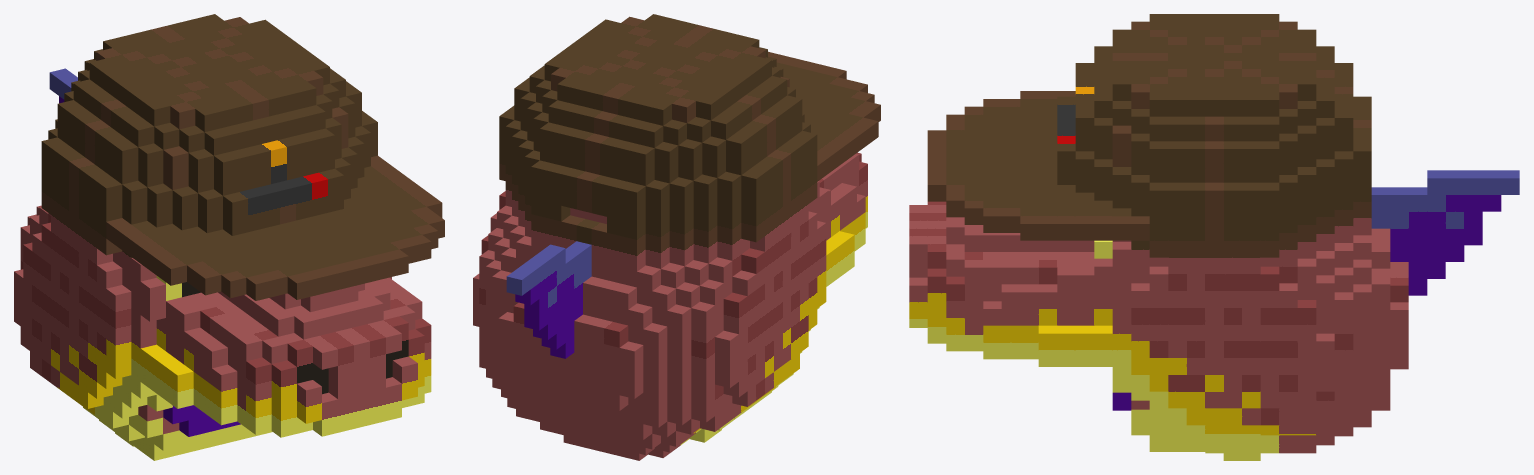
File: wsb hat.gltf
3 renders of one model, left to right at view 1: azimuth 30°, elevation 25°; view 2: azimuth 150°, elevation 25°; view 3: azimuth 270°, elevation 25°, orthographic. The views are drawn at different scales.
Parts seen in each view (by area): view 1: 07_Zilla_Head_WSB_Hat-Mesh; view 2: 07_Zilla_Head_WSB_Hat-Mesh; view 3: 07_Zilla_Head_WSB_Hat-Mesh.
Part boxes in pixels (bbox=[...]): 07_Zilla_Head_WSB_Hat-Mesh: bbox=[14, 14, 444, 460]; 07_Zilla_Head_WSB_Hat-Mesh: bbox=[473, 14, 880, 460]; 07_Zilla_Head_WSB_Hat-Mesh: bbox=[909, 14, 1519, 460].
Size of the model in its own units: 17 by 22 by 33.
1 material, 1 textured.
